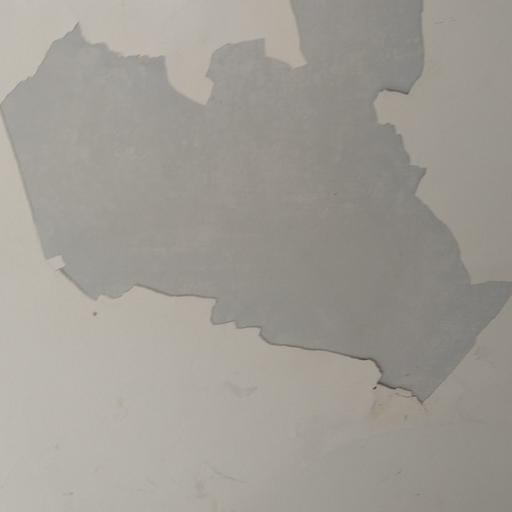peeling: (1, 0, 512, 419)
